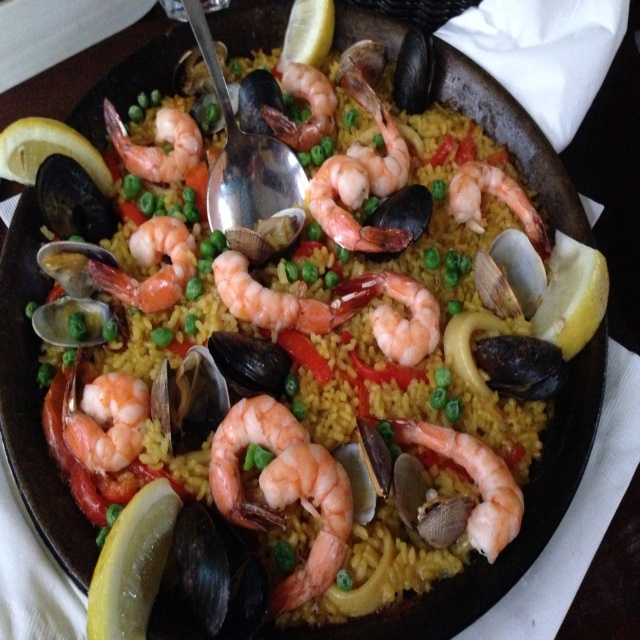Shrimp: (62, 56, 552, 627)
